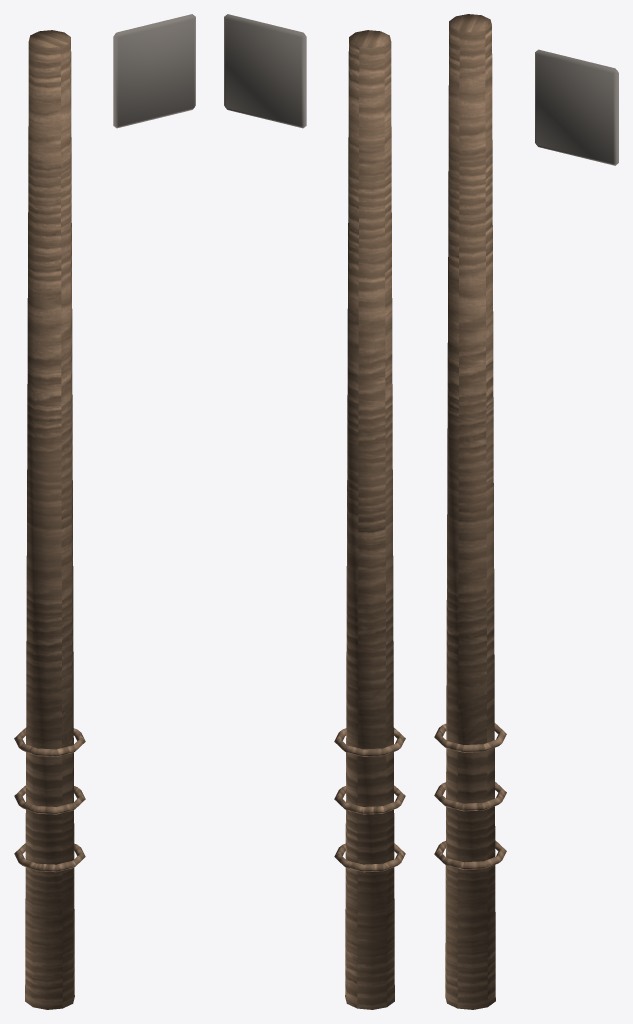
File: woodcutter_axe.glb
3 renders of one model, left to right at view 1: azimuth 30°, elevation 25°; view 2: azimuth 150°, elevation 25°; view 3: azimuth 330°, elevation 25°, orthographic.
Parts seen in each view (by area): view 1: woodcutter_axe; view 2: woodcutter_axe; view 3: woodcutter_axe.
Boxes of the visible parts, <box> form: woodcutter_axe: <box>14,14,195,1009</box>; woodcutter_axe: <box>224,14,405,1009</box>; woodcutter_axe: <box>434,14,618,1009</box>.
Bounding box in the file's own units: 0.0965 × 0.5 × 0.0323.
2 materials, 1 textured.
